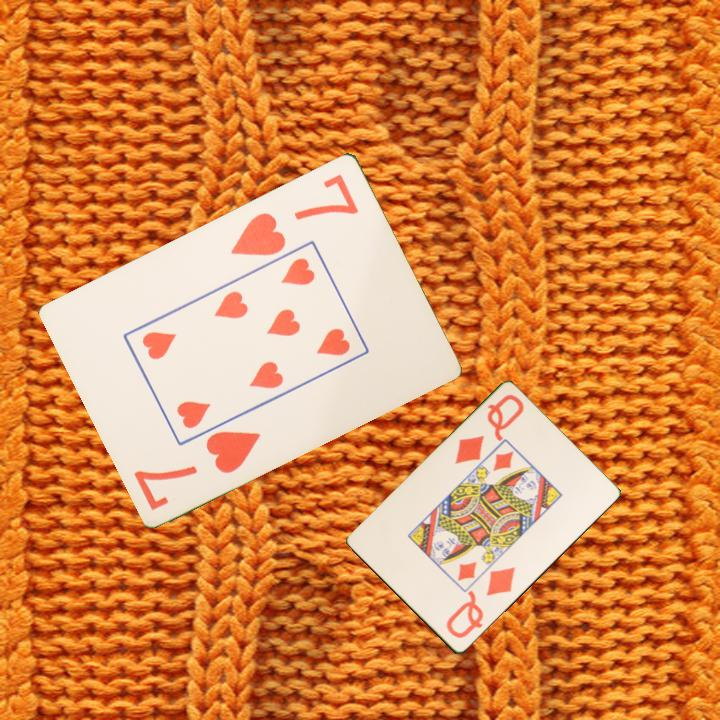7h: (227, 169, 362, 259), (131, 426, 264, 513)
Qd: (443, 563, 518, 642), (451, 391, 527, 468)
